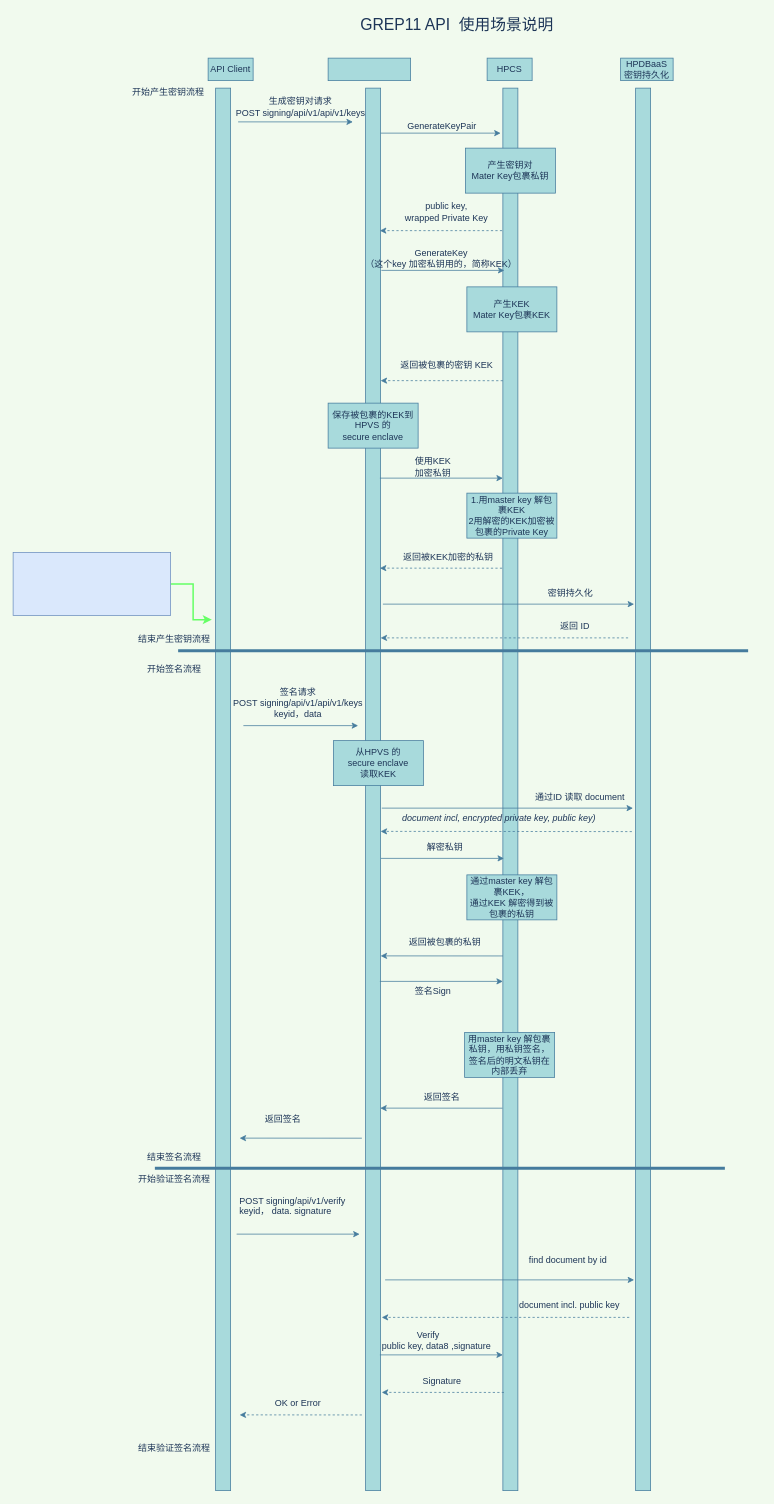
The diagram is 774 pixels wide and 1504 high, and some of its shapes have lost their labels. The centre of each missing label's shape, as x and y in pixels:
"签名服务器" belongs at point 369,69.
"说明： 私钥被加密2次 第一次在产生的密码的时候是被master key（包裹） 第二次加密是被KEK加密 KEK 本身也被master key 包裹" belongs at point 91,583.
